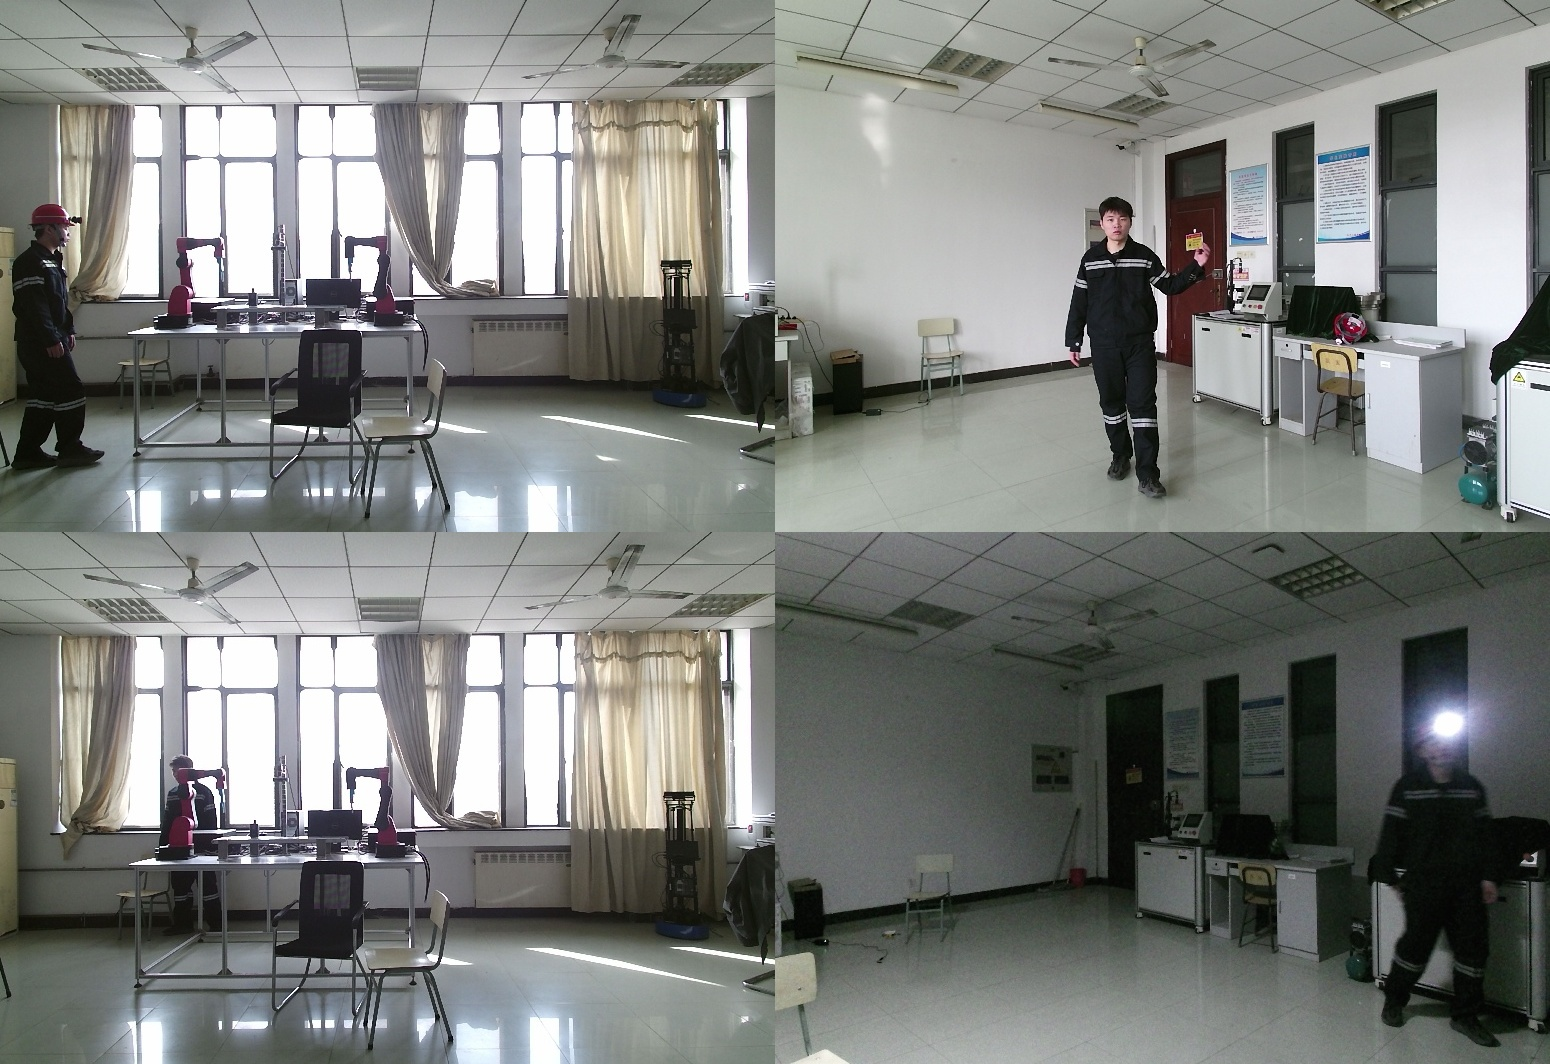person: (1047, 197, 1231, 492), (1390, 715, 1519, 1043), (7, 204, 114, 468), (157, 755, 226, 943)
